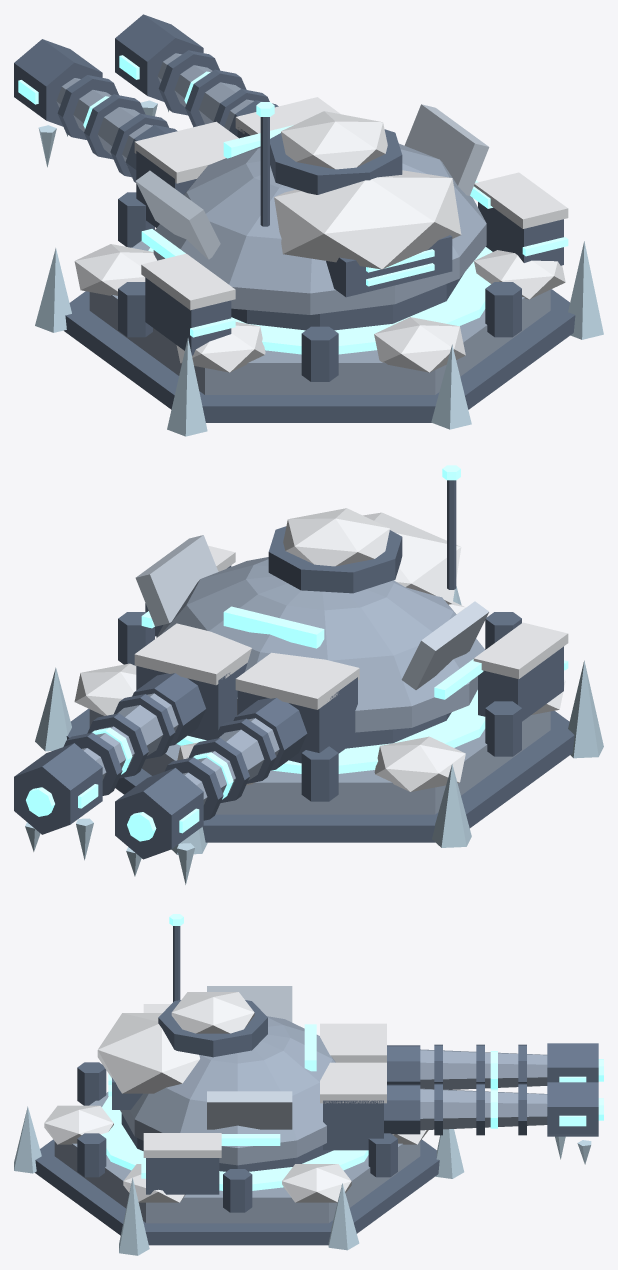
The model's file is turret_lvl3.fbx.
The picture shows the model from 3 angles, top to bottom: view 1: azimuth 30°, elevation 25°; view 2: azimuth 150°, elevation 25°; view 3: azimuth 270°, elevation 25°; orthographic projection. The views are drawn at different scales.
Parts seen in each view (by area): view 1: Dome_05, BaseSkirt_02, SnowBlanket_56, Base_01, SnowCupola_69, Neon_BaseRing_03, Pivot_04, ArmorPlate_42, SnowMound_61, MuzzleBrake_29, Cupola_55, MuzzleBrake_15 (+33 smaller); view 2: Dome_05, BaseSkirt_02, Base_01, MuzzleBrake_15, MuzzleBrake_29, SnowCupola_69, SnowCap_08, SnowCap_22, Cupola_55, ArmorPlate_42, SnowMound_59, SnowBlanket_56 (+30 smaller); view 3: Dome_05, BaseSkirt_02, Base_01, SnowBlanket_56, BarrelTube_24, BarrelTube_10, ArmorPlate_42, Neon_BaseRing_03, SnowCupola_69, Cupola_55, BarrelMount_21, SaddleBag_53 (+27 smaller).
Boxes of the visible parts, <box> form: Dome_05: <box>153,143,486,314</box>; BaseSkirt_02: <box>64,289,575,422</box>; SnowBlanket_56: <box>274,170,461,269</box>; Base_01: <box>89,241,550,394</box>; SnowCupola_69: <box>281,111,387,169</box>; Neon_BaseRing_03: <box>148,247,492,354</box>; Pivot_04: <box>231,274,463,330</box>; ArmorPlate_42: <box>404,104,489,195</box>; SnowMound_61: <box>374,317,465,372</box>; MuzzleBrake_29: <box>115,14,203,101</box>; Cupola_55: <box>270,129,402,194</box>; MuzzleBrake_15: <box>14,39,102,126</box>; Dome_05: <box>156,557,485,732</box>; BaseSkirt_02: <box>66,708,574,842</box>; Base_01: <box>89,665,550,814</box>; MuzzleBrake_15: <box>115,768,203,859</box>; MuzzleBrake_29: <box>14,743,102,834</box>; SnowCupola_69: <box>283,508,389,566</box>; SnowCap_08: <box>235,652,359,709</box>; SnowCap_22: <box>134,623,251,685</box>; Cupola_55: <box>268,526,402,593</box>; ArmorPlate_42: <box>135,535,218,626</box>; SnowMound_59: <box>374,736,465,791</box>; SnowBlanket_56: <box>363,512,461,604</box>; Dome_05: <box>120,1016,335,1165</box>; BaseSkirt_02: <box>35,1139,439,1245</box>; Base_01: <box>54,1092,420,1223</box>; SnowBlanket_56: <box>97,1013,199,1093</box>; BarrelTube_24: <box>420,1088,547,1130</box>; BarrelTube_10: <box>420,1049,547,1089</box>; ArmorPlate_42: <box>207,1091,292,1129</box>; Neon_BaseRing_03: <box>101,1096,368,1190</box>; SnowCupola_69: <box>171,992,254,1033</box>; Cupola_55: <box>158,1000,267,1057</box>; BarrelMount_21: <box>323,1100,383,1150</box>; SaddleBag_53: <box>146,1158,219,1194</box>.
Bounding box in the file's own units: 341 × 208 × 508.
